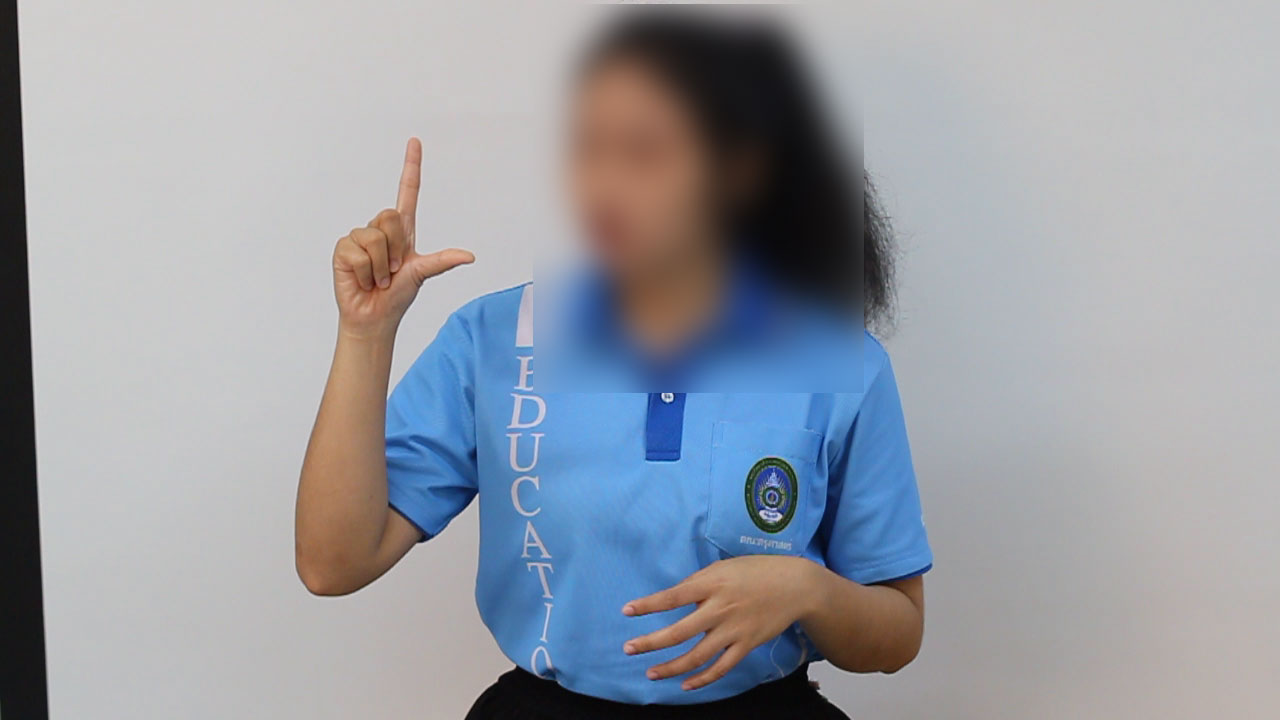lor: (325, 114, 503, 344)
